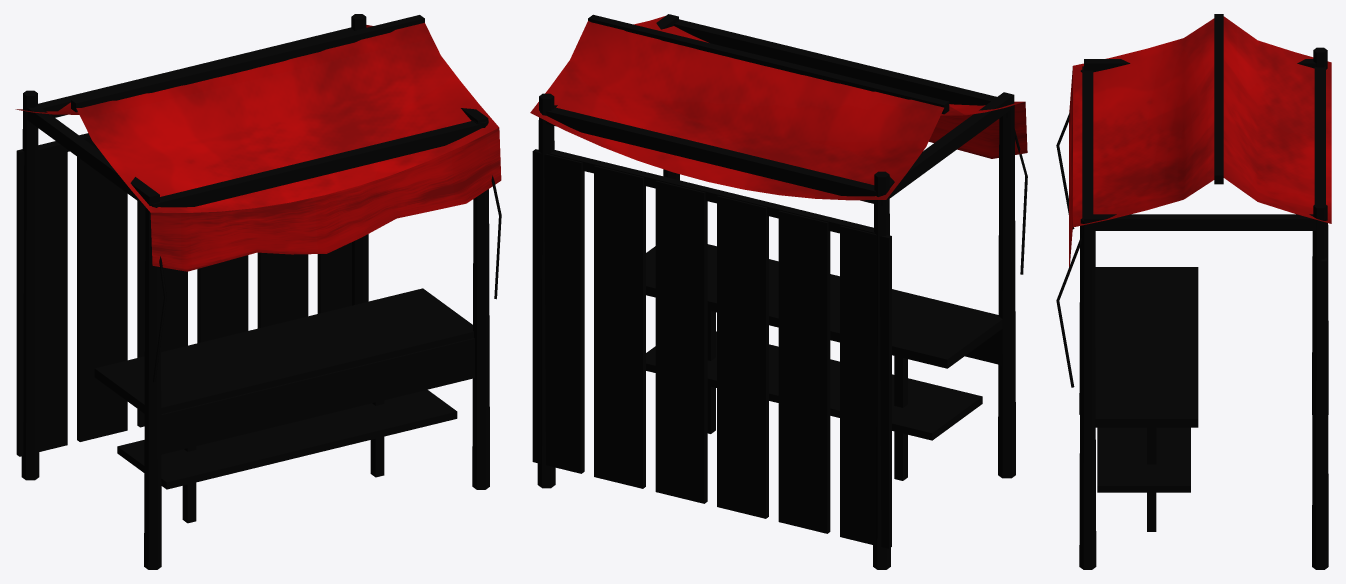
Rendered from prop_haven_stall_a.glb.
The picture shows the model from 3 angles, left to right: view 1: azimuth 30°, elevation 25°; view 2: azimuth 150°, elevation 25°; view 3: azimuth 270°, elevation 25°; orthographic projection. The views are drawn at different scales.
Parts seen in each view (by area): view 1: prop_haven_stall_a; view 2: prop_haven_stall_a; view 3: prop_haven_stall_a.
Boxes of the visible parts, x1,y1,x2,y2 form: prop_haven_stall_a: (15, 14, 501, 569); prop_haven_stall_a: (530, 14, 1027, 569); prop_haven_stall_a: (1056, 14, 1331, 569).
Bounding box in the file's own units: 2.04 × 2.33 × 1.47.
1 material, 1 textured.
